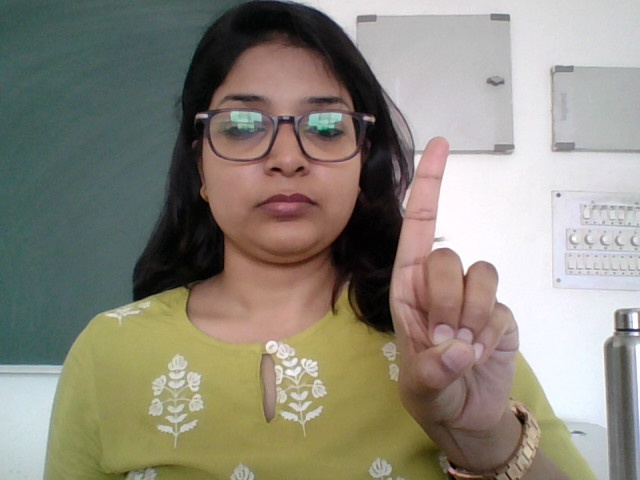D: (383, 132, 528, 436)
